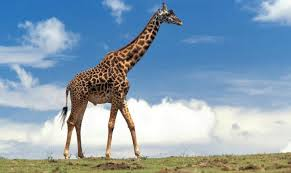Jirafa: (106, 1, 213, 96)
